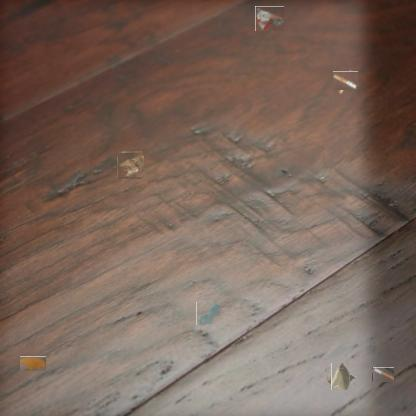dirty: (255, 6, 284, 31), (118, 152, 144, 178), (329, 365, 353, 388), (334, 70, 357, 92), (372, 367, 394, 382)
liquid: (196, 301, 221, 325), (20, 356, 46, 371)
